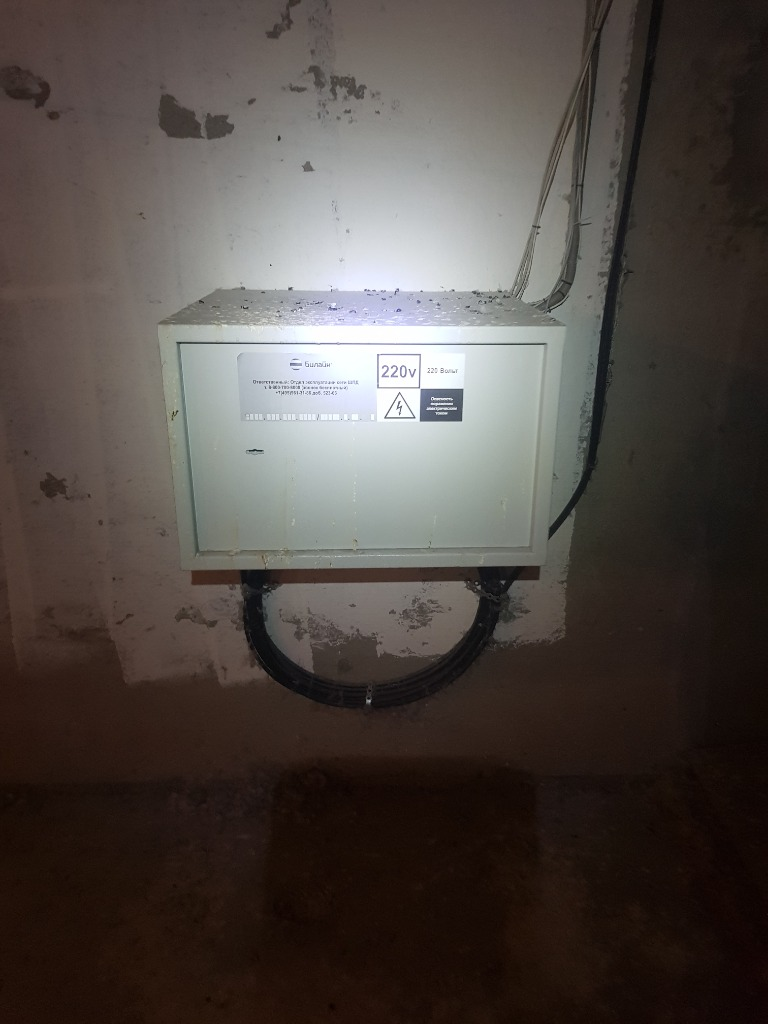shta-7m: (151, 285, 571, 571)
